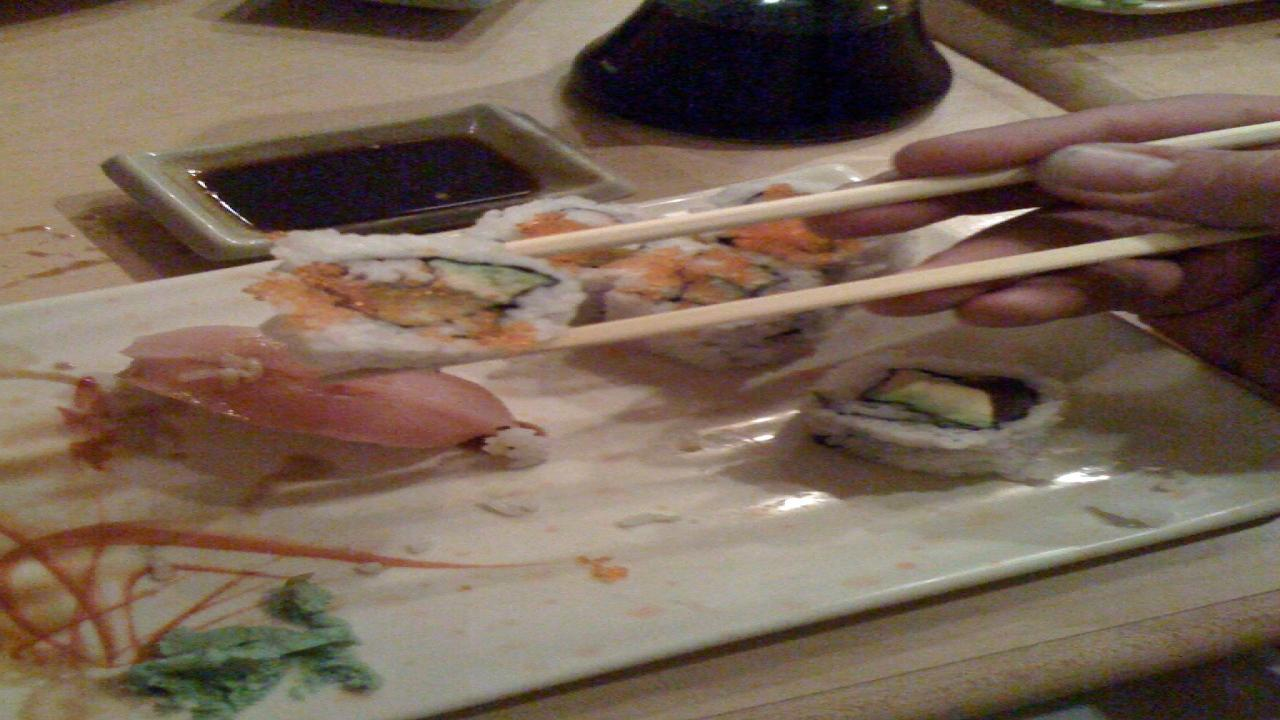chopstick: (485, 119, 1280, 359)
